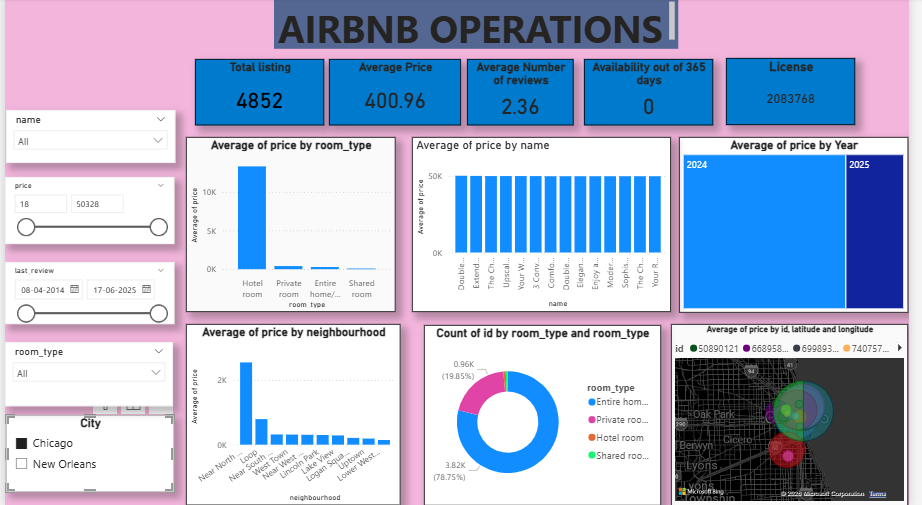

Layout of this report page (visuals, bound fields, positions):
{"tool":"powerbi","page":{"name":"Page 1","canvas":[1280,720],"ordinal":0},"visuals":[{"type":"slicer","title":"City","fields":{"Values":["Combine table.City"]},"box":[1.4,591,238.1,109.1],"z":0},{"type":"map","fields":{"Y":["Combine table.latitude"],"X":["Combine table.longitude"],"Size":["Avg(Combine table.price)"],"Series":["Combine table.id"]},"box":[944.6,462.2,335.5,257.8],"z":1000},{"type":"slicer","fields":{"Values":["Combine table.name"]},"box":[1.4,158.7,239.5,75.1],"z":2000},{"type":"slicer","fields":{"Values":["Combine table.price"]},"box":[0,253.7,239.5,95],"z":3000},{"type":"card","title":"Total listing","fields":{"Values":["Count(Combine table.id)"]},"box":[269.3,86.4,182.9,93.6],"z":4000},{"type":"card","title":"Average Price ","fields":{"Values":["Avg(Combine table.price)"]},"box":[459.4,86.4,187.2,93.6],"z":5000},{"type":"card","title":"Average Number of reviews","fields":{"Values":["Combine table.Total_num_reviews"]},"box":[655.2,86.4,151.2,93.6],"z":6000},{"type":"clusteredColumnChart","fields":{"Category":["Combine table.neighbourhood"],"Y":["Avg(Combine table.price)"]},"box":[257,461.9,304,257],"z":7000},{"type":"donutChart","fields":{"Y":["Count(Combine table.id)"],"Category":["Combine table.room_type"],"Series":["Combine table.room_type"]},"box":[593.3,463.7,335.5,256.3],"z":8000},{"type":"slicer","fields":{"Values":["Combine table.last_review"]},"box":[0,374.2,239.5,87.9],"z":9000},{"type":"card","title":"Availability out of 365 days","fields":{"Values":["Min(Combine table.availability_365)"]},"box":[820.8,86.4,182.9,93.6],"z":10000},{"type":"slicer","fields":{"Values":["Combine table.room_type"]},"box":[0,487.6,238.1,90.7],"z":11000},{"type":"columnChart","fields":{"Category":["Combine table.room_type"],"Y":["Avg(Combine table.price)"]},"box":[256.7,196.7,296.7,248.3],"z":12000},{"type":"treemap","fields":{"Group":["Combine table.last_review.Variation.Date Hierarchy.Year","Combine table.last_review.Variation.Date Hierarchy.Quarter","Combine table.last_review.Variation.Date Hierarchy.Month","Combine table.last_review.Variation.Date Hierarchy.Day"],"Values":["Avg(Combine table.price)"]},"box":[955.3,197,324.6,249.4],"z":13000},{"type":"card","title":"License","fields":{"Values":["Min(Combine table.license)"]},"box":[1021.7,85,183.3,95],"z":14000},{"type":"textbox","box":[381.7,0,573.3,71.7],"z":16000},{"type":"columnChart","fields":{"Category":["Combine table.name"],"Y":["Avg(Combine table.price)"]},"box":[577.4,197.3,367.2,247.7],"z":16001}]}

Visuals, with their boxes in screenshot pixels (x1, y1, x2, y2), scaled from the page's 1280x720 canvas onto the 922x505 screenshot:
"City" slicer: <bbox>1, 415, 173, 491</bbox>
map - Combine table.latitude x Combine table.longitude: <bbox>680, 324, 921, 504</bbox>
slicer - Combine table.name: <bbox>1, 111, 174, 164</bbox>
slicer - Combine table.price: <bbox>0, 178, 173, 245</bbox>
"Total listing" card: <bbox>194, 61, 326, 126</bbox>
"Average Price " card: <bbox>331, 61, 466, 126</bbox>
"Average Number of reviews" card: <bbox>472, 61, 581, 126</bbox>
clusteredColumnChart - Combine table.neighbourhood x Avg(Combine table.price): <bbox>185, 324, 404, 504</bbox>
donutChart - Count(Combine table.id) x Combine table.room_type: <bbox>427, 325, 669, 504</bbox>
slicer - Combine table.last_review: <bbox>0, 262, 173, 324</bbox>
"Availability out of 365 days" card: <bbox>591, 61, 723, 126</bbox>
slicer - Combine table.room_type: <bbox>0, 342, 172, 406</bbox>
columnChart - Combine table.room_type x Avg(Combine table.price): <bbox>185, 138, 399, 312</bbox>
treemap - Combine table.last_review.Variation.Date Hierarchy.Year x Combine table.last_review.Variation.Date Hierarchy.Quarter: <bbox>688, 138, 921, 313</bbox>
"License" card: <bbox>736, 60, 868, 126</bbox>
textbox: <bbox>275, 0, 688, 50</bbox>
columnChart - Combine table.name x Avg(Combine table.price): <bbox>416, 138, 680, 312</bbox>
